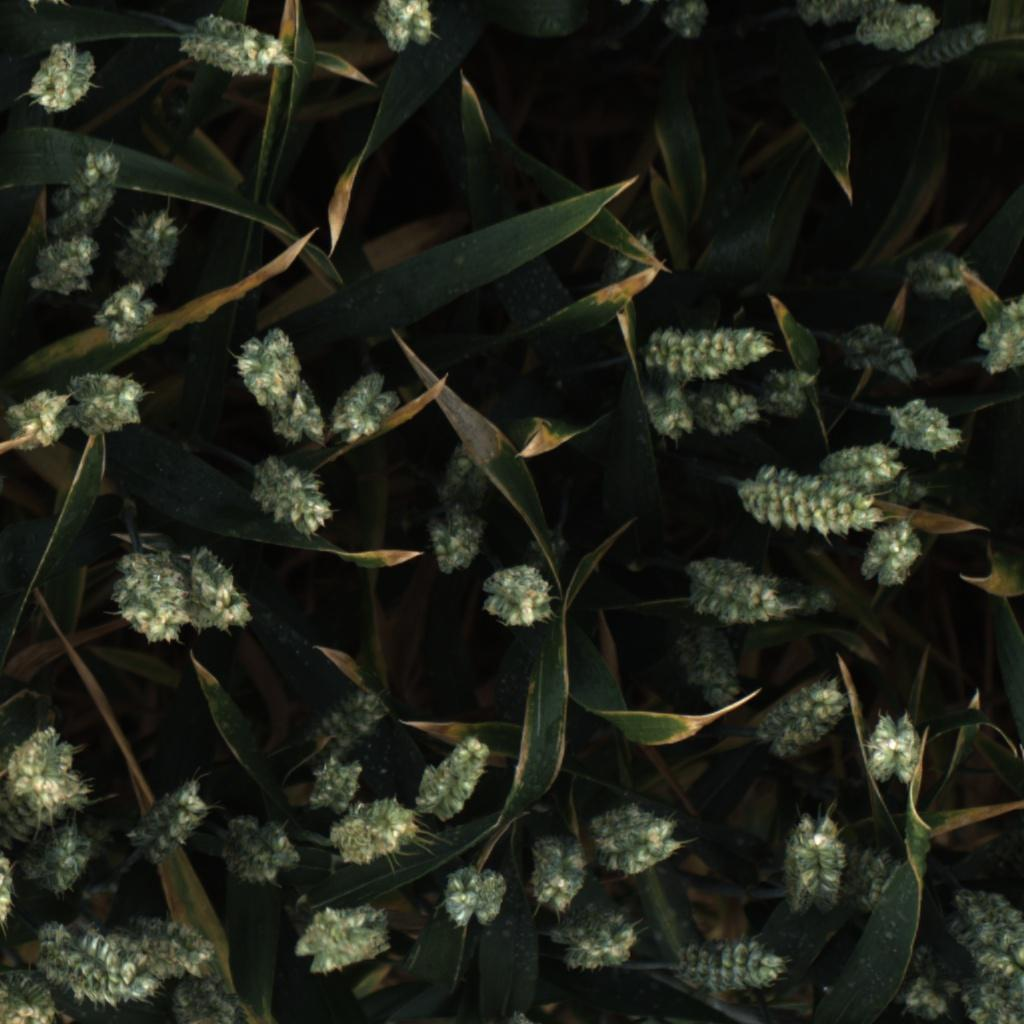0-0: (231, 325, 329, 441), (734, 462, 886, 536), (31, 916, 141, 1010), (0, 763, 100, 859), (292, 893, 396, 984), (639, 316, 776, 383), (0, 723, 79, 836), (102, 545, 191, 645), (177, 4, 290, 82), (582, 800, 688, 880), (825, 843, 925, 926), (941, 882, 1024, 980), (129, 773, 210, 869), (752, 679, 849, 759), (671, 934, 792, 997), (245, 455, 337, 537), (220, 809, 312, 887), (327, 794, 422, 869), (684, 555, 791, 621), (180, 543, 252, 640), (418, 732, 497, 820), (885, 940, 967, 1024), (776, 813, 846, 911), (544, 909, 640, 978), (474, 560, 563, 633), (52, 149, 129, 231), (837, 315, 921, 389), (63, 368, 151, 438), (18, 823, 95, 902), (299, 688, 385, 758), (431, 862, 513, 935), (24, 37, 100, 115), (326, 371, 402, 447), (846, 518, 926, 590), (117, 206, 191, 282), (677, 634, 747, 713), (99, 929, 168, 1006), (137, 917, 222, 979), (884, 394, 964, 458), (526, 828, 584, 916), (24, 230, 100, 297), (0, 390, 71, 461), (423, 504, 490, 575), (866, 708, 927, 784), (302, 755, 373, 820), (834, 466, 939, 509), (441, 415, 485, 517), (894, 245, 972, 302), (849, 4, 943, 51), (93, 284, 158, 351), (689, 382, 762, 440), (975, 292, 1024, 375), (813, 444, 907, 487), (169, 979, 256, 1024), (366, 0, 436, 55), (757, 364, 824, 420), (919, 26, 996, 72), (0, 964, 59, 1024), (610, 230, 661, 295), (774, 577, 840, 623), (788, 0, 903, 26), (643, 378, 695, 434), (522, 523, 571, 574), (659, 0, 711, 44), (520, 0, 575, 39), (0, 844, 17, 932), (482, 1009, 567, 1024), (617, 0, 657, 18)
